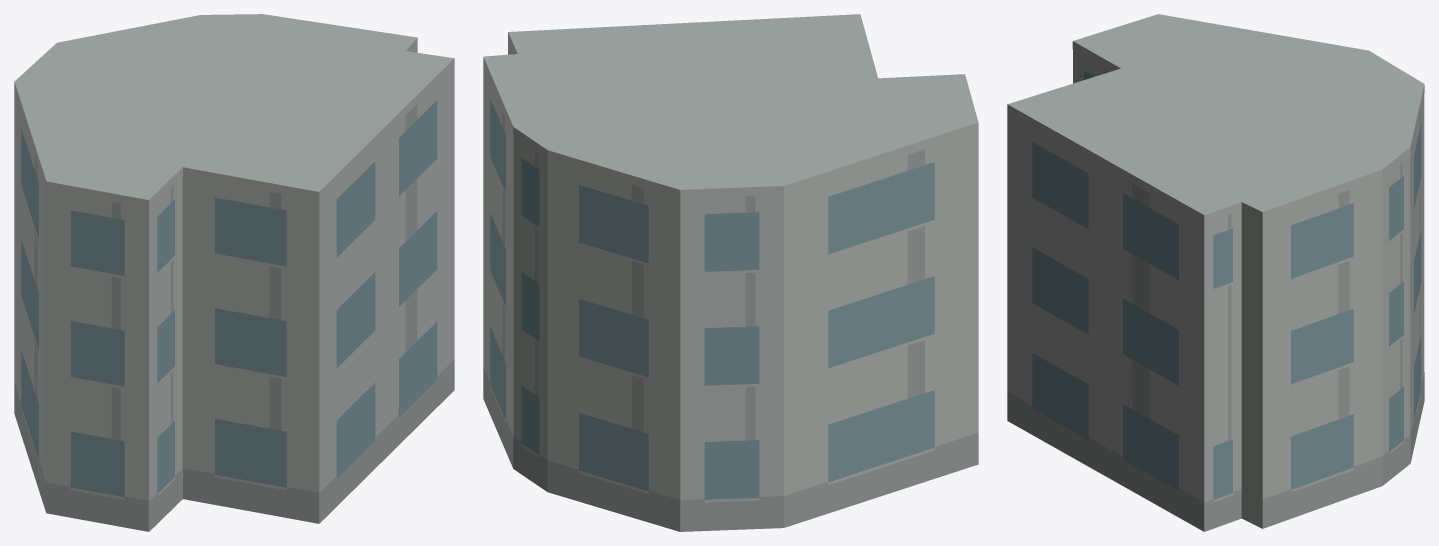
The model's file is residential-4ebbb252-3c05-4004-ba4e-70974b41f344.glb.
3 renders of one model, left to right at view 1: azimuth 30°, elevation 25°; view 2: azimuth 150°, elevation 25°; view 3: azimuth 270°, elevation 25°, orthographic. The views are drawn at different scales.
Parts seen in each view (by area): view 1: residential-4ebbb252-3c05-4004-ba4e-70974b41f344.tmp; view 2: residential-4ebbb252-3c05-4004-ba4e-70974b41f344.tmp; view 3: residential-4ebbb252-3c05-4004-ba4e-70974b41f344.tmp.
Part boxes in pixels (box(x1,y1,x2,y2)): residential-4ebbb252-3c05-4004-ba4e-70974b41f344.tmp: box(14, 14, 454, 531); residential-4ebbb252-3c05-4004-ba4e-70974b41f344.tmp: box(483, 14, 978, 531); residential-4ebbb252-3c05-4004-ba4e-70974b41f344.tmp: box(1007, 14, 1424, 531).
Bounding box in the file's own units: 12.42 × 9.1 × 10.88.
